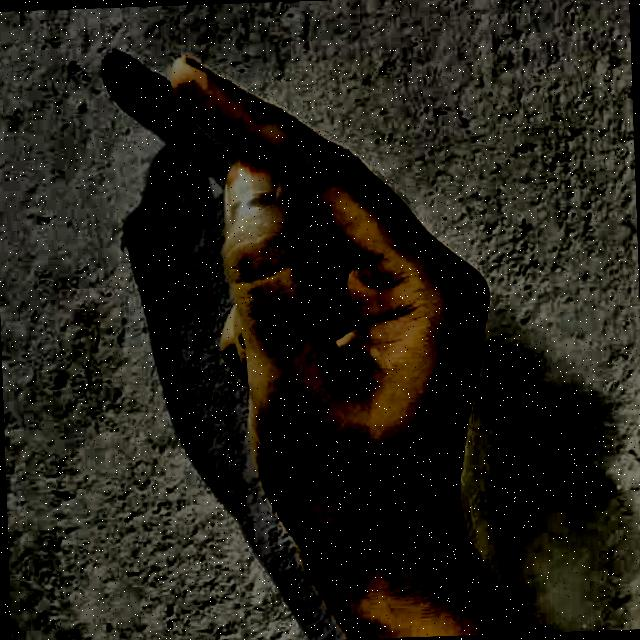Tha: (143, 24, 562, 640)
